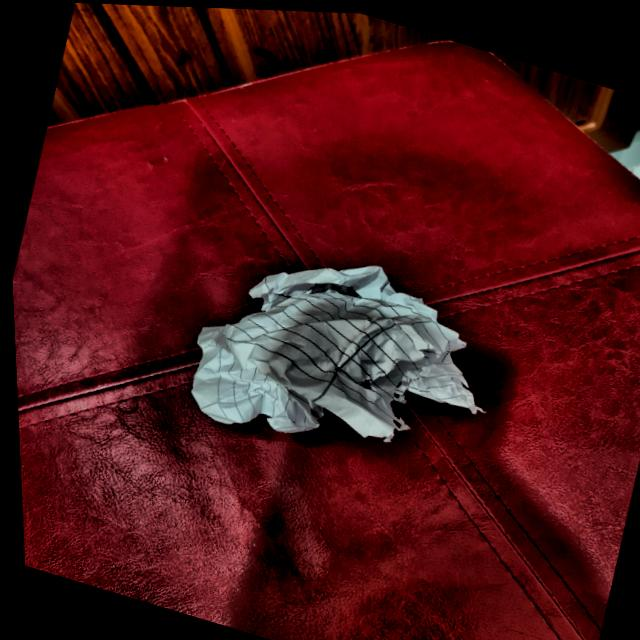Paper: (164, 208, 506, 494)
